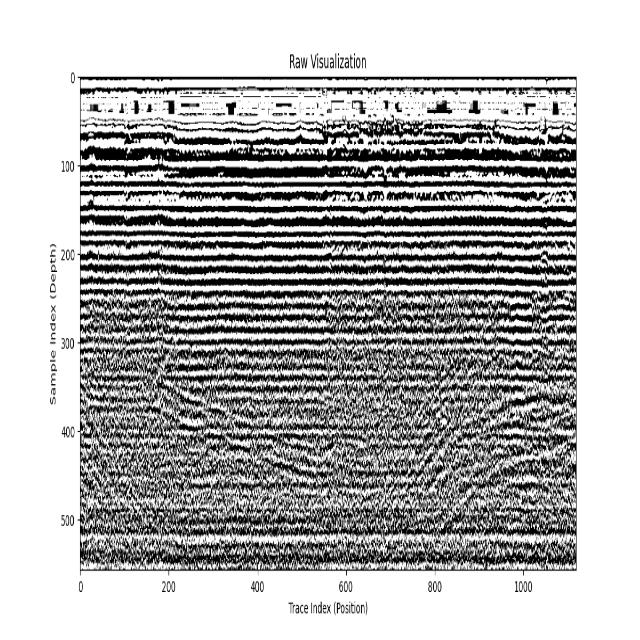anomaly: (370, 264, 576, 566), (89, 358, 340, 484)
